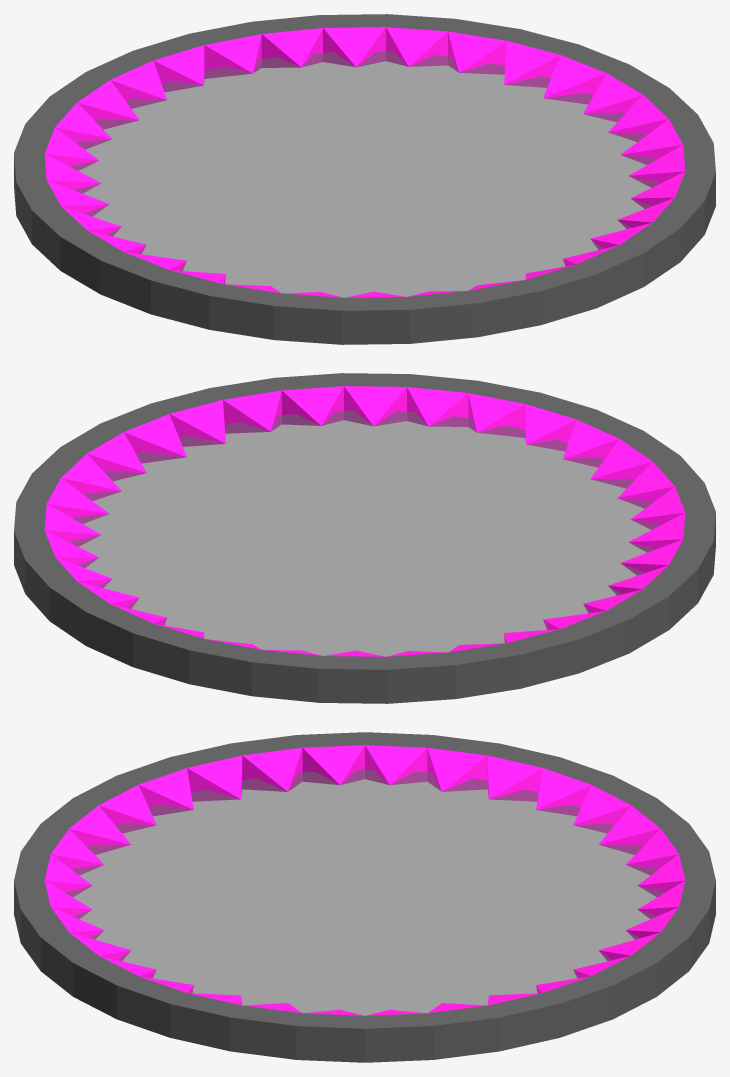
The model's file is mapModel.glb.
3 renders of one model, top to bottom at view 1: azimuth 30°, elevation 25°; view 2: azimuth 150°, elevation 25°; view 3: azimuth 270°, elevation 25°, orthographic.
Visible parts, largest first — view 1: Floor, Spear; view 2: Floor, Spear; view 3: Floor, Spear.
Part boxes in pixels (bbox=[...]): Floor: bbox=[69, 51, 660, 297]; Spear: bbox=[14, 14, 715, 344]; Floor: bbox=[69, 410, 660, 656]; Spear: bbox=[14, 373, 715, 703]; Floor: bbox=[65, 769, 664, 1015]; Spear: bbox=[14, 732, 715, 1062].
Size of the model in its own units: 2.25 by 0.12 by 2.25.
